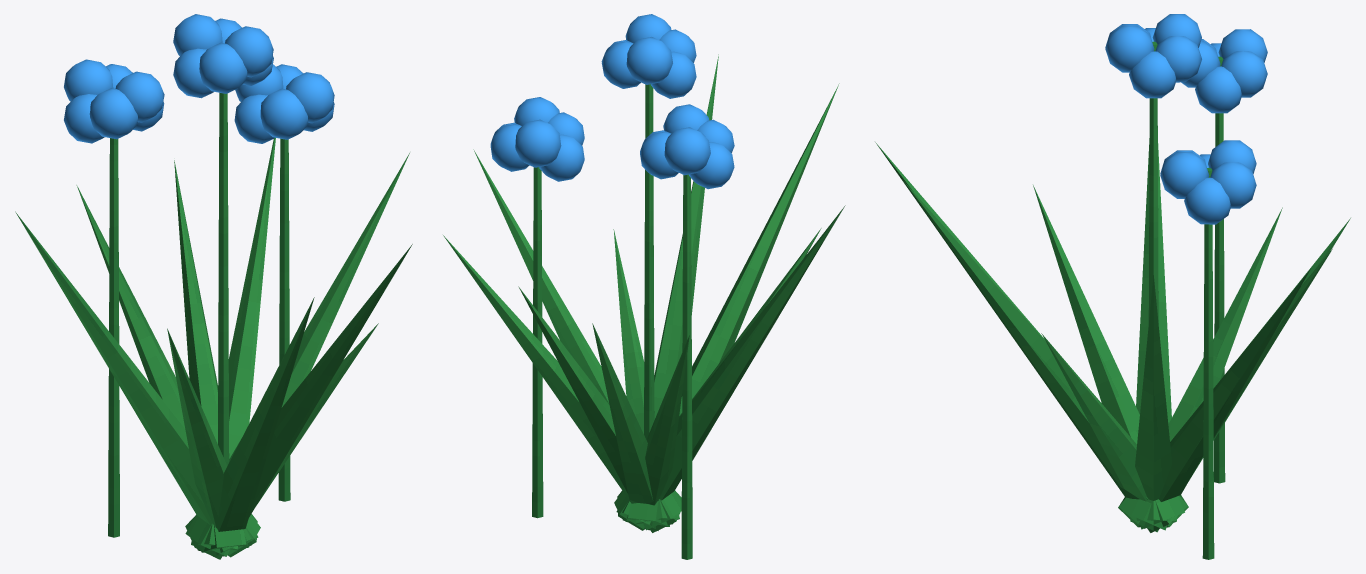
The model's file is klomberry.glb.
3 views of the same model, side by side, from view 1: azimuth 30°, elevation 25°; view 2: azimuth 150°, elevation 25°; view 3: azimuth 270°, elevation 25° (orthographic). The views are drawn at different scales.
Visible parts, largest first — view 1: Klomberry; view 2: Klomberry; view 3: Klomberry.
Part boxes in pixels (x1,y1,x2,y2): Klomberry: (15, 14, 412, 559); Klomberry: (443, 14, 845, 559); Klomberry: (875, 14, 1350, 559).
Bounding box in the file's own units: 0.7946 × 1.02 × 0.8713.
Materials: 2 (2 with a texture image).
